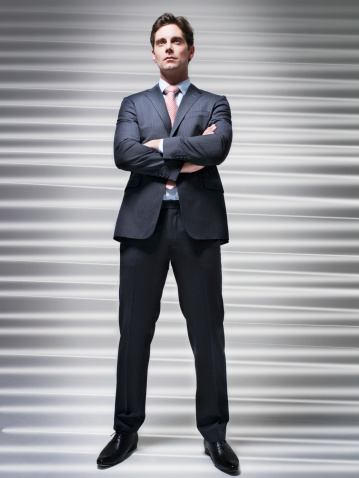em pe: (94, 10, 242, 458)
